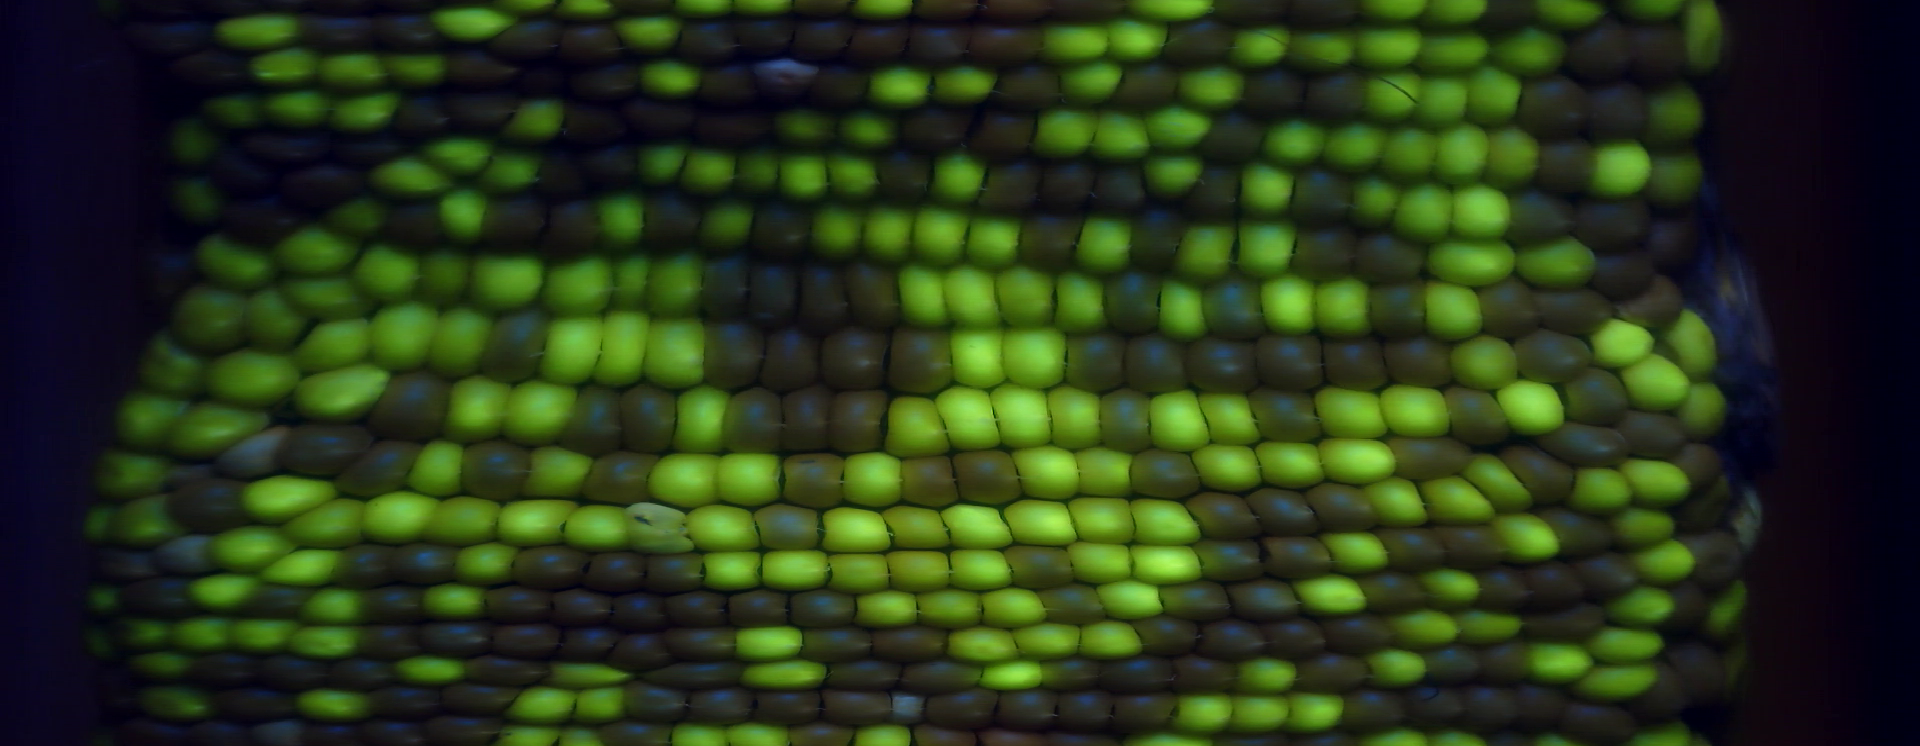fluorescent: (288, 364, 388, 423), (168, 401, 268, 457), (133, 332, 206, 402), (502, 379, 574, 446), (373, 296, 435, 375), (643, 314, 705, 390), (542, 314, 605, 388), (206, 350, 291, 404), (443, 376, 504, 450), (273, 222, 356, 276), (296, 314, 375, 370), (361, 488, 433, 548), (989, 382, 1056, 447), (171, 285, 239, 349), (598, 309, 650, 390), (1517, 232, 1596, 285), (1002, 327, 1069, 390), (242, 477, 334, 522), (197, 235, 278, 287), (939, 385, 1003, 450), (433, 307, 492, 377), (1378, 382, 1449, 440), (467, 255, 544, 307), (497, 494, 574, 546), (945, 325, 1008, 390), (1660, 309, 1719, 377), (1316, 386, 1387, 442), (288, 497, 364, 550), (114, 390, 178, 452), (207, 526, 290, 573), (238, 289, 305, 348), (684, 502, 758, 556), (1393, 176, 1455, 240), (1237, 218, 1297, 283), (885, 396, 950, 456), (715, 450, 782, 507), (426, 496, 501, 548), (1427, 241, 1516, 284), (1145, 387, 1207, 448), (910, 205, 969, 269), (353, 244, 418, 303), (649, 452, 718, 507), (1378, 124, 1438, 186), (647, 254, 705, 317), (1498, 379, 1569, 431), (1075, 213, 1131, 279), (1493, 26, 1569, 75), (1190, 441, 1262, 492), (1130, 499, 1202, 550), (547, 257, 615, 312), (523, 446, 591, 500), (1319, 437, 1396, 485), (858, 206, 918, 267), (1311, 277, 1369, 341), (940, 501, 1011, 552), (1259, 274, 1319, 334), (943, 266, 1000, 328), (1467, 453, 1531, 510), (624, 502, 696, 552), (1005, 497, 1076, 548), (278, 277, 366, 317), (94, 446, 162, 499), (108, 492, 175, 545), (1487, 124, 1539, 191), (1254, 440, 1326, 489), (1593, 140, 1653, 198), (408, 440, 467, 499), (1423, 279, 1483, 337), (1173, 225, 1236, 281), (1151, 279, 1206, 342), (1622, 358, 1689, 409), (1238, 162, 1296, 220), (1573, 463, 1633, 519), (997, 267, 1052, 328), (370, 156, 451, 197), (1354, 22, 1423, 71), (898, 261, 947, 330), (676, 385, 725, 453), (1048, 386, 1101, 450), (1451, 337, 1517, 387), (1129, 541, 1200, 588), (1320, 120, 1382, 173), (818, 507, 890, 552), (842, 452, 901, 507), (1453, 184, 1513, 238), (1067, 538, 1134, 586), (1435, 125, 1487, 187), (808, 202, 863, 260), (962, 216, 1018, 273), (258, 546, 337, 587), (1069, 494, 1133, 543), (1202, 390, 1258, 446), (564, 503, 629, 551), (1498, 513, 1562, 561), (1054, 274, 1107, 333), (1453, 184, 1512, 236), (1016, 445, 1078, 495), (1060, 59, 1123, 108), (1100, 577, 1167, 622), (1035, 109, 1098, 157), (948, 624, 1016, 668), (1146, 103, 1211, 149), (1018, 451, 1082, 497), (1093, 111, 1153, 162), (882, 502, 948, 548), (918, 587, 984, 632), (1468, 69, 1522, 124), (1646, 85, 1702, 137), (1651, 147, 1702, 205), (759, 548, 830, 589), (327, 92, 396, 135), (1179, 65, 1247, 108), (1423, 477, 1487, 522), (452, 541, 516, 587), (1422, 32, 1493, 72), (697, 200, 757, 247), (680, 149, 740, 197), (947, 546, 1009, 592), (980, 586, 1047, 627), (218, 13, 302, 47), (742, 658, 827, 691), (1036, 24, 1109, 62), (1627, 458, 1689, 503), (1678, 383, 1728, 439), (1078, 448, 1134, 497), (883, 550, 949, 592), (438, 185, 486, 243), (828, 552, 891, 595), (856, 586, 920, 628), (313, 51, 387, 88), (600, 192, 644, 254), (1265, 121, 1326, 165), (1371, 478, 1427, 527), (1322, 535, 1393, 573), (1011, 621, 1082, 659), (1592, 321, 1651, 366), (1591, 622, 1660, 660), (1367, 72, 1419, 122), (1417, 72, 1467, 125), (831, 110, 893, 153), (509, 687, 574, 728), (1286, 32, 1357, 69), (703, 548, 760, 593), (928, 154, 982, 202), (868, 69, 936, 107), (545, 661, 636, 690), (1144, 149, 1201, 194), (1106, 20, 1168, 60), (418, 252, 467, 304), (1616, 586, 1675, 628), (733, 625, 803, 660), (1527, 642, 1589, 681), (1392, 610, 1461, 646), (1687, 2, 1724, 69), (1173, 692, 1233, 733), (1229, 692, 1289, 733), (1635, 541, 1695, 582), (932, 66, 996, 104), (1616, 508, 1678, 548), (440, 9, 512, 42), (1288, 690, 1343, 733), (263, 91, 332, 125), (1237, 655, 1297, 695), (1298, 578, 1367, 612), (779, 157, 830, 202), (828, 157, 879, 202), (1708, 582, 1752, 635), (482, 154, 541, 194), (253, 48, 316, 85), (430, 138, 492, 175), (191, 575, 253, 611), (296, 687, 362, 722), (640, 60, 698, 99), (1420, 568, 1478, 608), (1582, 666, 1656, 697), (643, 142, 688, 191), (140, 684, 203, 718), (1232, 26, 1291, 62), (609, 257, 653, 306), (1082, 624, 1141, 660), (293, 624, 356, 657), (225, 617, 290, 649), (386, 51, 448, 85), (509, 99, 562, 138), (302, 589, 362, 624), (1352, 179, 1395, 227), (983, 657, 1041, 692), (398, 652, 462, 684), (1458, 611, 1522, 643), (620, 17, 678, 51), (424, 584, 482, 619), (171, 118, 217, 162), (738, 152, 782, 197), (1371, 650, 1425, 687), (778, 108, 833, 142), (329, 198, 382, 234), (209, 94, 264, 127), (169, 617, 222, 652), (574, 686, 623, 723), (181, 174, 219, 220), (109, 622, 167, 649), (83, 503, 122, 543), (126, 648, 184, 674), (84, 619, 113, 658), (91, 586, 118, 612)
nonfluorescent: (369, 366, 446, 440), (482, 311, 553, 382), (280, 423, 369, 475), (336, 439, 418, 495), (613, 386, 683, 452), (747, 194, 811, 265), (1518, 75, 1589, 138), (887, 325, 949, 394), (951, 446, 1022, 507), (1253, 332, 1324, 393), (1185, 332, 1258, 392), (700, 321, 763, 390), (167, 483, 244, 538), (1570, 196, 1647, 251), (1120, 331, 1188, 393), (722, 386, 782, 456), (563, 388, 624, 456), (825, 390, 887, 457), (1509, 443, 1576, 505), (823, 323, 884, 390), (1513, 330, 1588, 383), (1509, 185, 1572, 247), (1249, 390, 1322, 443), (1352, 232, 1425, 285), (458, 441, 528, 497), (1291, 167, 1353, 229), (1018, 211, 1082, 271), (1104, 269, 1163, 336), (220, 200, 301, 247), (640, 185, 702, 247), (1202, 273, 1262, 337), (216, 430, 284, 485), (1291, 224, 1352, 285), (1095, 387, 1153, 451), (760, 323, 818, 388), (583, 452, 655, 503), (1478, 278, 1540, 337), (1127, 209, 1183, 274), (280, 167, 356, 214), (782, 450, 842, 510), (238, 126, 326, 167), (480, 194, 547, 246), (1068, 332, 1127, 392), (1370, 278, 1430, 337), (1589, 82, 1651, 140), (1445, 388, 1509, 443), (1188, 488, 1258, 538), (1308, 479, 1373, 533), (898, 103, 969, 152), (752, 503, 823, 552), (846, 257, 898, 325), (1381, 338, 1449, 390), (545, 197, 605, 255), (1562, 367, 1625, 423), (1550, 421, 1626, 467), (997, 58, 1058, 113), (785, 385, 831, 457), (1005, 541, 1078, 588), (122, 577, 201, 620), (704, 252, 756, 317), (513, 543, 587, 588), (211, 152, 272, 206), (647, 658, 738, 693), (1384, 436, 1469, 474), (970, 22, 1036, 71), (978, 160, 1040, 213), (898, 457, 959, 510), (1620, 412, 1687, 459), (211, 687, 295, 725), (798, 258, 849, 322), (1641, 661, 1687, 730), (970, 113, 1035, 162), (873, 149, 931, 205), (1233, 577, 1303, 622), (1538, 289, 1608, 334), (1572, 23, 1632, 76), (1131, 450, 1198, 497), (1324, 337, 1385, 388), (383, 202, 446, 252), (1300, 67, 1360, 119), (907, 22, 973, 69), (1253, 486, 1314, 537), (1534, 138, 1597, 187), (1194, 537, 1261, 582), (1632, 22, 1686, 78), (1117, 59, 1174, 111), (868, 627, 948, 665), (1163, 21, 1228, 67), (927, 692, 1002, 733), (1558, 698, 1633, 737), (1091, 164, 1147, 217), (1527, 562, 1586, 612), (1407, 684, 1467, 733), (901, 661, 978, 699), (752, 258, 800, 320), (496, 20, 558, 66), (538, 145, 588, 202), (1381, 528, 1449, 571), (692, 109, 768, 147), (1524, 601, 1600, 639), (789, 16, 847, 65), (1157, 581, 1236, 617), (182, 47, 247, 91), (1238, 64, 1299, 110), (1041, 160, 1092, 216), (1596, 251, 1651, 303), (626, 677, 688, 723), (789, 587, 858, 627), (558, 22, 617, 70), (563, 62, 637, 100), (827, 657, 902, 693), (816, 688, 891, 725), (451, 47, 516, 89), (1262, 537, 1331, 577), (1201, 111, 1255, 163), (1188, 163, 1237, 219), (1622, 277, 1679, 326), (358, 584, 427, 624), (803, 625, 873, 664), (1444, 523, 1505, 567), (667, 624, 738, 661), (587, 548, 644, 594), (610, 627, 669, 673), (258, 654, 328, 692), (1299, 650, 1369, 688), (462, 655, 541, 688), (558, 104, 620, 147), (336, 546, 400, 587), (729, 589, 793, 630), (1106, 658, 1179, 693), (1060, 688, 1118, 734), (1648, 207, 1693, 265), (673, 21, 736, 62), (550, 584, 612, 626), (753, 688, 819, 728), (1002, 688, 1060, 733), (1201, 617, 1260, 661), (396, 545, 459, 586), (1464, 690, 1518, 737), (1360, 572, 1424, 612), (453, 88, 513, 131), (698, 65, 758, 108), (1423, 643, 1478, 690), (493, 617, 558, 657), (1260, 619, 1325, 658), (590, 140, 640, 190), (301, 13, 370, 50), (758, 59, 817, 102), (1342, 686, 1401, 729), (812, 65, 872, 107), (327, 654, 394, 691), (1118, 693, 1179, 734), (1176, 650, 1233, 693), (688, 688, 753, 726), (1556, 507, 1610, 552), (487, 586, 553, 622), (662, 592, 729, 628), (1518, 685, 1562, 740), (324, 132, 394, 167), (425, 712, 495, 746), (238, 584, 302, 621), (186, 652, 251, 688), (1689, 532, 1742, 576), (422, 622, 491, 657), (152, 537, 208, 578), (442, 684, 516, 715), (1042, 586, 1103, 624), (617, 107, 692, 137), (851, 23, 907, 64), (650, 554, 707, 594), (365, 13, 433, 47), (369, 686, 442, 717), (355, 624, 422, 657), (1327, 615, 1390, 650), (1477, 563, 1528, 606), (736, 17, 790, 58), (394, 92, 449, 131), (1140, 617, 1198, 654), (1586, 552, 1635, 594), (1679, 646, 1725, 688), (612, 592, 661, 632), (1476, 641, 1524, 681), (1042, 658, 1106, 688), (558, 626, 615, 660), (1682, 443, 1722, 492), (96, 541, 149, 577), (147, 20, 209, 47), (1669, 587, 1709, 627), (890, 690, 923, 729)
